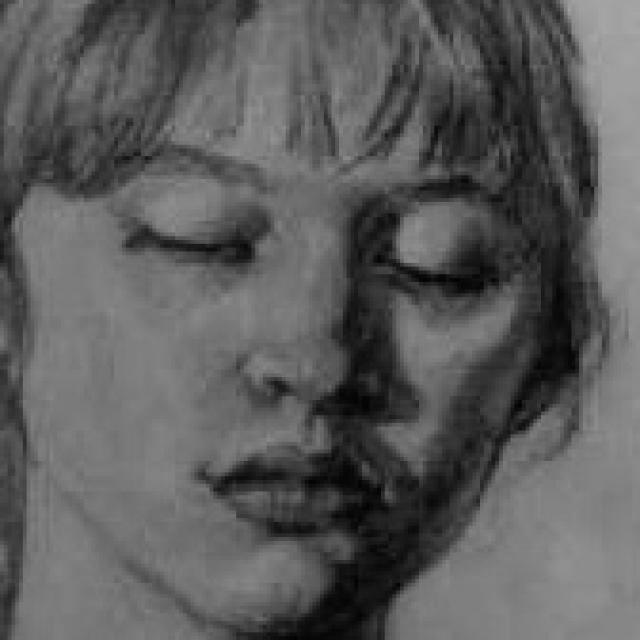real: (59, 24, 537, 594), (100, 154, 510, 303)
